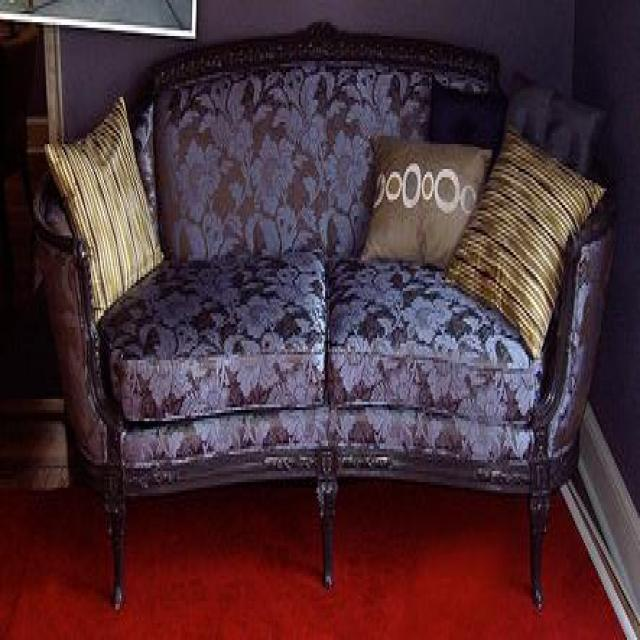sofa: (33, 21, 616, 610)
